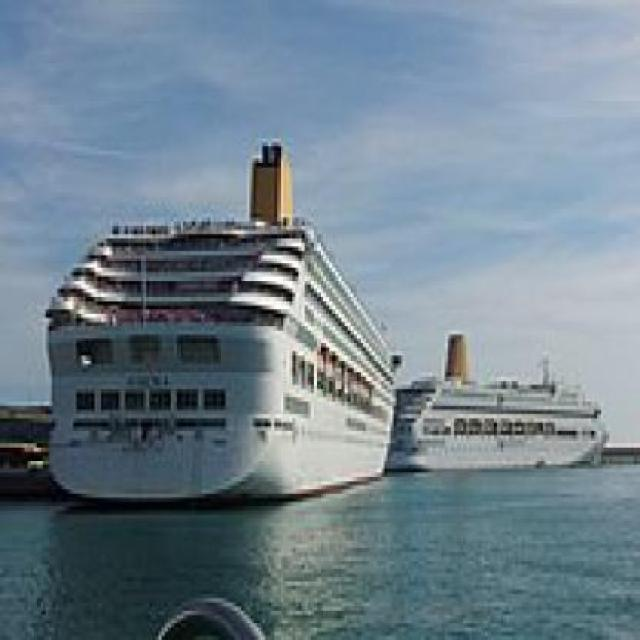cruise: (38, 134, 404, 523), (391, 319, 617, 491)
